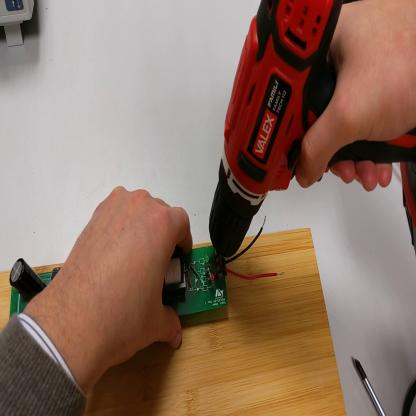electric screwdriver: (208, 2, 415, 272)
hand: (59, 182, 193, 373), (291, 2, 415, 193)
high voltage board: (6, 215, 288, 325)
oscilloscope: (2, 2, 37, 50)
screwdriver-: (351, 355, 388, 416)
working area: (1, 228, 347, 416)
